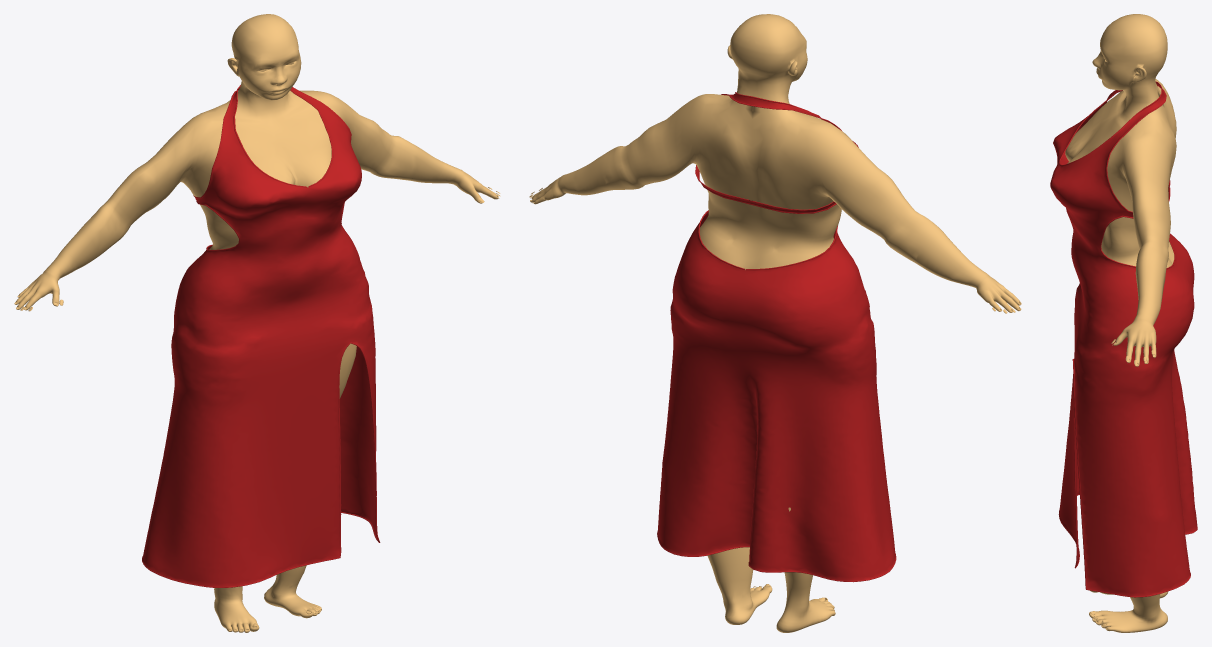
The model's file is dress3.glb.
3 views of the same model, side by side, from view 1: azimuth 30°, elevation 25°; view 2: azimuth 150°, elevation 25°; view 3: azimuth 270°, elevation 25° (orthographic).
Parts seen in each view (by area): view 1: EveningDress, Body; view 2: EveningDress, Body; view 3: EveningDress, Body.
Boxes of the visible parts, box(x1,y1,x2,y2) form: EveningDress: box(142, 85, 380, 587); Body: box(14, 14, 499, 632); EveningDress: box(657, 92, 896, 582); Body: box(530, 14, 1021, 632); EveningDress: box(1050, 81, 1197, 597); Body: box(1065, 14, 1176, 632).
Size of the model in its own units: 1.59 by 1.88 by 0.4195.
